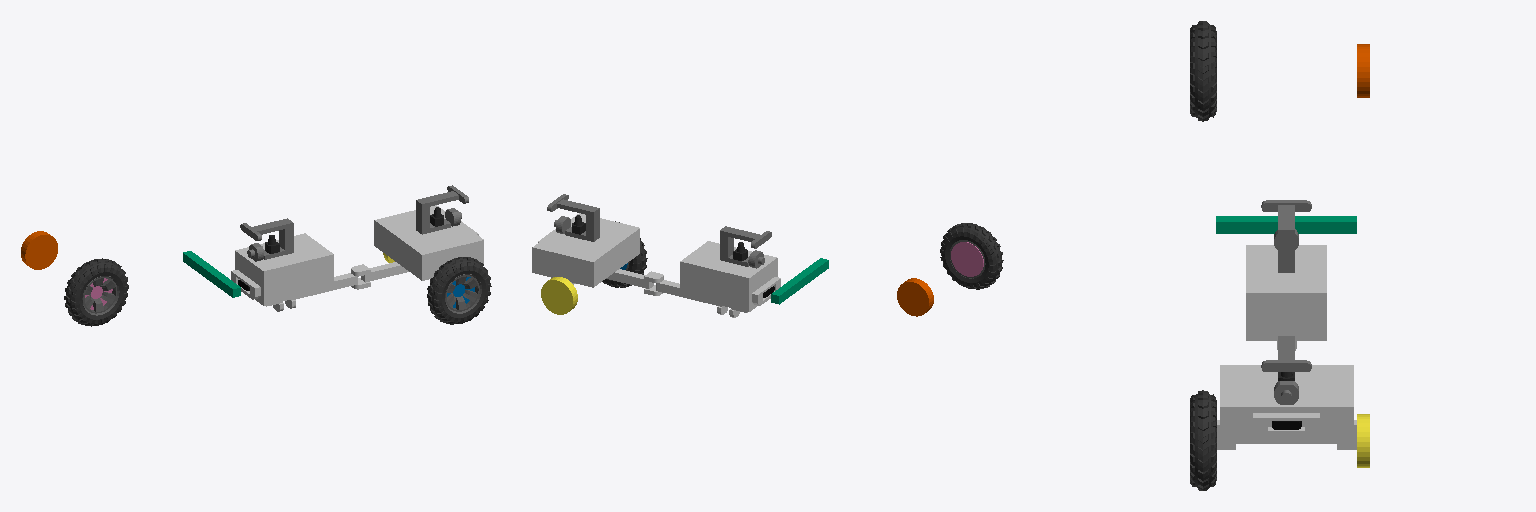
The robot description file, URDF, robot "ROBOTIKA_KLOUBAK":
<?xml version='1.0' encoding='utf-8'?>
<robot name='ROBOTIKA_KLOUBAK'>
  <link name='chassis_front'>
    <inertial>
      <origin xyz='-0.05 0 0.28' rpy='0 -0 0'/>
      <mass value='8'/>
      <inertia ixx='0.1119' ixy='0' ixz='0' iyy='0.1286' iyz='0' izz='0.2159'/>
    </inertial>
    <collision name='collision_front_box'>
      <origin xyz='0 0 0.28' rpy='0 -0 0'/>
      <geometry>
        <box size='0.3 0.4 0.16'/>
      </geometry>
    </collision>
    <collision name='collision_bar'>
      <origin xyz='-0.17 0 0.22' rpy='0 -0 0'/>
      <geometry>
        <box size='0.3 0.04 0.04'/>
      </geometry>
    </collision>
    <collision name='collision_joint_upper'>
      <origin xyz='-0.335 0 0.25' rpy='0 -0 0'/>
      <geometry>
        <box size='0.07 0.06 0.02'/>
      </geometry>
    </collision>
    <collision name='collision_joint_bottom'>
      <origin xyz='-0.335 0 0.19' rpy='0 -0 0'/>
      <geometry>
        <box size='0.07 0.06 0.02'/>
      </geometry>
    </collision>
    <collision name='collision_wheel_hinge_left'>
      <origin xyz='0 0.18 0.18' rpy='0 -0 0'/>
      <geometry>
        <box size='0.04 0.06 0.04'/>
      </geometry>
    </collision>
    <collision name='collision_wheel_hinge_right'>
      <origin xyz='0 -0.18 0.18' rpy='0 -0 0'/>
      <geometry>
        <box size='0.04 0.06 0.04'/>
      </geometry>
    </collision>
    <collision name='collision_light_lidar_camera'>
      <origin xyz='0.05 0 0.4325' rpy='0 -0 0'/>
      <geometry>
        <box size='0.2 0.15 0.145'/>
      </geometry>
    </collision>
    <collision name='collision_depth_camera_front'>
      <origin xyz='0.165 0 0.31' rpy='0 -0 0'/>
      <geometry>
        <box size='0.03 0.2 0.06'/>
      </geometry>
    </collision>
    <visual name='visual_chassis'>
      <origin xyz='0 0 0.2' rpy='0 -0 0'/>
      <geometry>
        <mesh filename='meshes/chassis_front.dae' scale='1 1 1'/>
      </geometry>
    </visual>
    <visual name='visual_light'>
      <origin xyz='0.09 0 0.36' rpy='0 -0 0'/>
      <geometry>
        <mesh filename='meshes/light.dae' scale='1 1 1'/>
      </geometry>
    </visual>
    <visual name='visual_lidar_front'>
      <origin xyz='0.015 0 0.38' rpy='0 -0 0'/>
      <geometry>
        <mesh filename='meshes/lidar.dae' scale='1 1 1'/>
      </geometry>
    </visual>
    <visual name='visual_camera_front'>
      <origin xyz='0.114 0 0.36' rpy='0 -0 0'/>
      <geometry>
        <mesh filename='meshes/camera.dae' scale='1 1 1'/>
      </geometry>
    </visual>
    <visual name='visual_depth_camera_shield_front'>
      <origin xyz='0.15 0 0.31' rpy='0 -0 0'/>
      <geometry>
        <mesh filename='meshes/depth_camera_shield.dae' scale='1 1 1'/>
      </geometry>
    </visual>
    <visual name='visual_depth_camera_front'>
      <origin xyz='0.15 0 0.313' rpy='0 -0 0'/>
      <geometry>
        <mesh filename='meshes/depth_camera.dae' scale='1 1 1'/>
      </geometry>
    </visual>
  </link>
  <sensor name='imu_sensor_front' update_rate='50'>
    <parent link='chassis_front'/>
    <origin xyz='0 0 0' rpy='0 -0 0'/>
  </sensor>
  <sensor name='magnetometer_front' update_rate='50'>
    <parent link='chassis_front'/>
    <origin xyz='0 0 0' rpy='0 -0 0'/>
  </sensor>
  <sensor name='air_pressure' update_rate='20'>
    <parent link='chassis_front'/>
    <origin xyz='0 0 0' rpy='0 -0 0'/>
  </sensor>
  <sensor name='lidar_front' update_rate='15'>
    <parent link='chassis_front'/>
    <origin xyz='0.04 0 0.235' rpy='0 -0 0'/>
  </sensor>
  <sensor name='camera_front' update_rate='10'>
    <parent link='chassis_front'/>
    <origin xyz='0.15 0 0.192' rpy='0 -0 0'/>
    <camera>
      <image width='1024' height='768' format='R8G8B8' hfov='3.072' near='0.01' far='300' />
    </camera>
  </sensor>
  <sensor name='depth_camera_front' update_rate='20'>
    <parent link='chassis_front'/>
    <origin xyz='0.18 0 0.113' rpy='0 -0 0'/>
    <camera>
      <image width='640' height='360' format='R8G8B8' hfov='1.5184' near='0.01' far='300' />
    </camera>
  </sensor>
  <link name='chassis_back'>
    <inertial>
      <origin xyz='-0.325 0 0.096' rpy='0 -0 0'/>
      <mass value='7.2'/>
      <inertia ixx='0.0468' ixy='0' ixz='0' iyy='0.1117' iyz='0' izz='0.1228'/>
    </inertial>
    <collision name='collision_back_box'>
      <origin xyz='-0.35 0 0.11' rpy='0 -0 0'/>
      <geometry>
        <box size='0.34 0.24 0.18'/>
      </geometry>
    </collision>
    <collision name='collision_bar'>
      <origin xyz='-0.225 0 0' rpy='0 -0 0'/>
      <geometry>
        <box size='0.45 0.04 0.04'/>
      </geometry>
    </collision>
    <collision name='collision_light_lidar_camera'>
      <origin xyz='-0.42 0 0.2725' rpy='0 -0 0'/>
      <geometry>
        <box size='0.2 0.15 0.145'/>
      </geometry>
    </collision>
    <collision name='collision_depth_camera_back'>
      <origin xyz='-0.535 0 0.09' rpy='0 -0 0'/>
      <geometry>
        <box size='0.03 0.2 0.06'/>
      </geometry>
    </collision>
    <visual name='visual_chassis'>
      <origin xyz='-0.35 0 -0.02' rpy='0 -0 0'/>
      <geometry>
        <mesh filename='meshes/chassis_back.dae' scale='1 1 1'/>
      </geometry>
    </visual>
    <visual name='visual_light'>
      <origin xyz='-0.46 0 0.2' rpy='0 -0 -3.14159'/>
      <geometry>
        <mesh filename='meshes/light.dae' scale='1 1 1'/>
      </geometry>
    </visual>
    <visual name='visual_lidar_back'>
      <origin xyz='-0.385 0 0.22' rpy='0 -0 -3.14159'/>
      <geometry>
        <mesh filename='meshes/lidar.dae' scale='1 1 1'/>
      </geometry>
    </visual>
    <visual name='visual_camera_back'>
      <origin xyz='-0.484 0 0.2' rpy='0 -0 -3.14159'/>
      <geometry>
        <mesh filename='meshes/camera.dae' scale='1 1 1'/>
      </geometry>
    </visual>
    <visual name='visual_depth_camera_shield_back'>
      <origin xyz='-0.55 0 0.09' rpy='0 -0 0'/>
      <geometry>
        <mesh filename='meshes/depth_camera_shield.dae' scale='1 1 1'/>
      </geometry>
    </visual>
    <visual name='visual_depth_camera_back'>
      <origin xyz='-0.55 0 0.093' rpy='0 -0 0'/>
      <geometry>
        <mesh filename='meshes/depth_camera.dae' scale='1 1 1'/>
      </geometry>
    </visual>
  </link>
  <sensor name='imu_sensor_back' update_rate='50'>
    <parent link='chassis_back'/>
    <origin xyz='0 0 0' rpy='0 -0 0'/>
  </sensor>
  <sensor name='magnetometer_back' update_rate='50'>
    <parent link='chassis_back'/>
    <origin xyz='0 0 0' rpy='0 -0 0'/>
  </sensor>
  <sensor name='lidar_back' update_rate='15'>
    <parent link='chassis_back'/>
    <origin xyz='-0.06 0 0.295' rpy='0 -0 -3.14159'/>
  </sensor>
  <sensor name='camera_back' update_rate='10'>
    <parent link='chassis_back'/>
    <origin xyz='-0.17 0 0.252' rpy='0 -0 -3.14159'/>
    <camera>
      <image width='1024' height='768' format='R8G8B8' hfov='3.072' near='0.01' far='300' />
    </camera>
  </sensor>
  <sensor name='depth_camera_back' update_rate='20'>
    <parent link='chassis_back'/>
    <origin xyz='-0.2 0 0.113' rpy='0 -0 -3.14159'/>
    <camera>
      <image width='640' height='360' format='R8G8B8' hfov='1.5184' near='0.01' far='300' />
    </camera>
  </sensor>
  <link name='axle_back'>
    <inertial>
      <origin xyz='0 0 0' rpy='0 -0 0'/>
      <mass value='0.8'/>
      <inertia ixx='0.0119' ixy='0' ixz='0' iyy='0.00021' iyz='0' izz='0.0119'/>
    </inertial>
    <collision name='collision'>
      <origin xyz='0 0 0' rpy='0 -0 0'/>
      <geometry>
        <box size='0.04 0.42 0.04'/>
      </geometry>
    </collision>
    <visual name='visual'>
      <origin xyz='0 0 0' rpy='0 -0 0'/>
      <geometry>
        <box size='0.04 0.42 0.04'/>
      </geometry>
    </visual>
  </link>
  <link name='front_left_wheel'>
    <inertial>
      <origin xyz='0 0 0' rpy='0 -0 0'/>
      <mass value='3.5'/>
      <inertia ixx='0.0145' ixy='0' ixz='0' iyy='0.0252' iyz='0' izz='0.0145'/>
    </inertial>
    <collision name='collision'>
      <origin xyz='0 0 0' rpy='-1.5708 0 0'/>
      <geometry>
        <cylinder radius='0.15' length='0.08'/>
      </geometry>
    </collision>
    <visual name='tire_visual'>
      <origin xyz='0 0 0' rpy='1.5708 -0 0'/>
      <geometry>
        <mesh filename='meshes/wheel_left.dae' scale='1.431 1.431 1.569'/>
      </geometry>
    </visual>
    <visual name='motor_visual'>
      <origin xyz='0 -0.02 0' rpy='1.5708 -0 0'/>
      <geometry>
        <cylinder radius='0.08' length='0.04'/>
      </geometry>
    </visual>
  </link>
  <link name='front_right_wheel'>
    <inertial>
      <origin xyz='0 0 0' rpy='0 -0 0'/>
      <mass value='3.5'/>
      <inertia ixx='0.0145' ixy='0' ixz='0' iyy='0.0252' iyz='0' izz='0.0145'/>
    </inertial>
    <collision name='collision'>
      <origin xyz='0 0 0' rpy='1.5708 -0 0'/>
      <geometry>
        <cylinder radius='0.15' length='0.08'/>
      </geometry>
    </collision>
    <visual name='tire_visual'>
      <origin xyz='0 0 0' rpy='1.5708 -0 0'/>
      <geometry>
        <mesh filename='meshes/wheel_right.dae' scale='1.431 1.431 1.569'/>
      </geometry>
    </visual>
    <visual name='motor_visual'>
      <origin xyz='0 0.02 0' rpy='1.5708 -0 0'/>
      <geometry>
        <cylinder radius='0.08' length='0.04'/>
      </geometry>
    </visual>
  </link>
  <link name='rear_left_wheel'>
    <inertial>
      <origin xyz='0 0 0' rpy='0 -0 0'/>
      <mass value='3.5'/>
      <inertia ixx='0.0145' ixy='0' ixz='0' iyy='0.0252' iyz='0' izz='0.0145'/>
    </inertial>
    <collision name='collision'>
      <origin xyz='0 0 0' rpy='-1.5708 0 0'/>
      <geometry>
        <cylinder radius='0.15' length='0.08'/>
      </geometry>
    </collision>
    <visual name='tire_visual'>
      <origin xyz='0 0 0' rpy='1.5708 -0 0'/>
      <geometry>
        <mesh filename='meshes/wheel_left.dae' scale='1.431 1.431 1.569'/>
      </geometry>
    </visual>
    <visual name='motor_visual'>
      <origin xyz='0 -0.02 0' rpy='1.5708 -0 0'/>
      <geometry>
        <cylinder radius='0.08' length='0.04'/>
      </geometry>
    </visual>
  </link>
  <link name='rear_right_wheel'>
    <inertial>
      <origin xyz='0 0 0' rpy='0 -0 0'/>
      <mass value='3.5'/>
      <inertia ixx='0.0145' ixy='0' ixz='0' iyy='0.0252' iyz='0' izz='0.0145'/>
    </inertial>
    <collision name='collision'>
      <origin xyz='0 0 0' rpy='1.5708 -0 0'/>
      <geometry>
        <cylinder radius='0.15' length='0.08'/>
      </geometry>
    </collision>
    <visual name='tire_visual'>
      <origin xyz='0 0 0' rpy='1.5708 -0 0'/>
      <geometry>
        <mesh filename='meshes/wheel_right.dae' scale='1.431 1.431 1.569'/>
      </geometry>
    </visual>
    <visual name='motor_visual'>
      <origin xyz='0 0.02 0' rpy='1.5708 -0 0'/>
      <geometry>
        <cylinder radius='0.08' length='0.04'/>
      </geometry>
    </visual>
  </link>
  <joint name='front_left_wheel_joint' type='revolute'>
    <origin xyz='0 0.25 0.18' rpy='0 -0 0'/>
    <parent link='chassis_front'/>
    <child link='front_left_wheel'/>
    <axis xyz='0 1 0'/>
    <limit lower='-1.79769e+308' upper='1.79769e+308' effort='10' velocity='13.333'/>
  </joint>
  <joint name='front_right_wheel_joint' type='revolute'>
    <origin xyz='0 -0.25 0.18' rpy='0 -0 0'/>
    <parent link='chassis_front'/>
    <child link='front_right_wheel'/>
    <axis xyz='0 1 0'/>
    <limit lower='-1.79769e+308' upper='1.79769e+308' effort='10' velocity='13.333'/>
  </joint>
  <joint name='rear_left_wheel_joint' type='revolute'>
    <origin xyz='-0.7 0.25 0.18' rpy='0 -0 0'/>
    <parent link='axle_back'/>
    <child link='rear_left_wheel'/>
    <axis xyz='0 1 0'/>
    <limit lower='-1.79769e+308' upper='1.79769e+308' effort='10' velocity='13.333'/>
  </joint>
  <joint name='rear_right_wheel_joint' type='revolute'>
    <origin xyz='-0.7 -0.25 0.18' rpy='0 -0 0'/>
    <parent link='axle_back'/>
    <child link='rear_right_wheel'/>
    <axis xyz='0 1 0'/>
    <limit lower='-1.79769e+308' upper='1.79769e+308' effort='10' velocity='13.333'/>
  </joint>
  <joint name='main_joint' type='revolute'>
    <origin xyz='-0.35 0 0.22' rpy='0 -0 0'/>
    <parent link='chassis_front'/>
    <child link='chassis_back'/>
    <axis xyz='0 0 1'/>
    <limit lower='-1.222' upper='1.222' effort='-1' velocity='-1'/>
  </joint>
  <joint name='axle_joint' type='revolute'>
    <origin xyz='-0.7 0 0.18' rpy='0 -0 0'/>
    <parent link='chassis_back'/>
    <child link='axle_back'/>
    <axis xyz='1 0 0'/>
    <limit lower='-0.436' upper='0.436' effort='-1' velocity='-1'/>
  </joint>
</robot>

--- What the picture shows (computed from the rendered views, not written in the file) ---
3 views of the same robot in one strip: view 1: azimuth 30°, elevation 25°; view 2: azimuth 150°, elevation 25°; view 3: azimuth 270°, elevation 25° (orthographic).
Robot: ROBOTIKA_KLOUBAK — 7 links, 6 joints (6 revolute); root link chassis_front; default pose: every joint at zero.
Visible links, largest first — view 1: chassis_back, chassis_front, front_right_wheel, rear_right_wheel, rear_left_wheel, axle_back; view 2: chassis_front, chassis_back, rear_right_wheel, front_left_wheel, rear_left_wheel, axle_back, front_right_wheel; view 3: chassis_front, chassis_back, front_right_wheel, rear_right_wheel, axle_back, front_left_wheel, rear_left_wheel.
Link boxes in pixels (bbox=[...]): chassis_back: bbox=[231, 218, 357, 311]; chassis_front: bbox=[351, 185, 483, 289]; front_right_wheel: bbox=[427, 257, 491, 324]; rear_right_wheel: bbox=[64, 258, 128, 326]; rear_left_wheel: bbox=[21, 231, 57, 269]; axle_back: bbox=[183, 251, 240, 297]; chassis_front: bbox=[532, 194, 663, 295]; chassis_back: bbox=[656, 226, 780, 317]; rear_right_wheel: bbox=[940, 223, 1003, 289]; front_left_wheel: bbox=[541, 277, 577, 314]; rear_left_wheel: bbox=[897, 278, 933, 316]; axle_back: bbox=[771, 258, 828, 304]; front_right_wheel: bbox=[602, 221, 647, 287]; chassis_front: bbox=[1217, 336, 1356, 449]; chassis_back: bbox=[1246, 200, 1326, 350]; front_right_wheel: bbox=[1190, 390, 1216, 490]; rear_right_wheel: bbox=[1190, 21, 1216, 121]; axle_back: bbox=[1216, 216, 1356, 233]; front_left_wheel: bbox=[1357, 414, 1369, 467]; rear_left_wheel: bbox=[1357, 44, 1369, 97].
Bounding box of the posed robot: 2.08 × 0.5394 × 0.7013 m (x, y, z).
14 mesh visuals loaded from 9 distinct referenced files (8 Collada DAE); not drawn: 2 (reference not matched to a file when rendering).